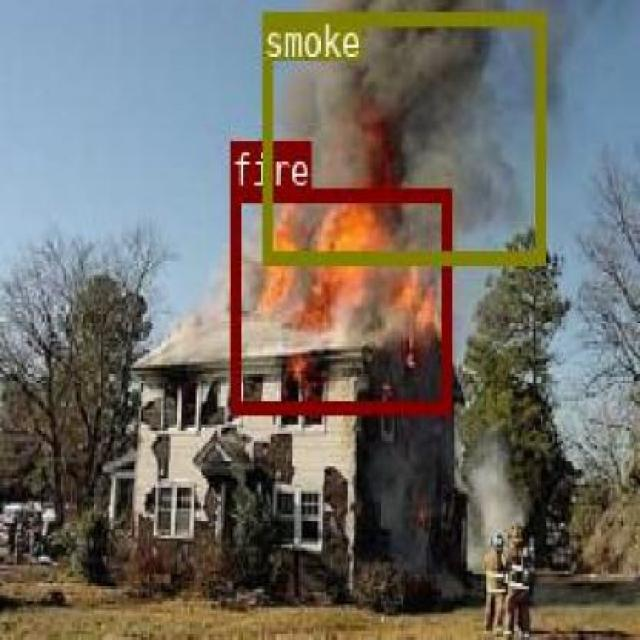Fire: (228, 188, 448, 412)
Smoke: (262, 9, 544, 260)
